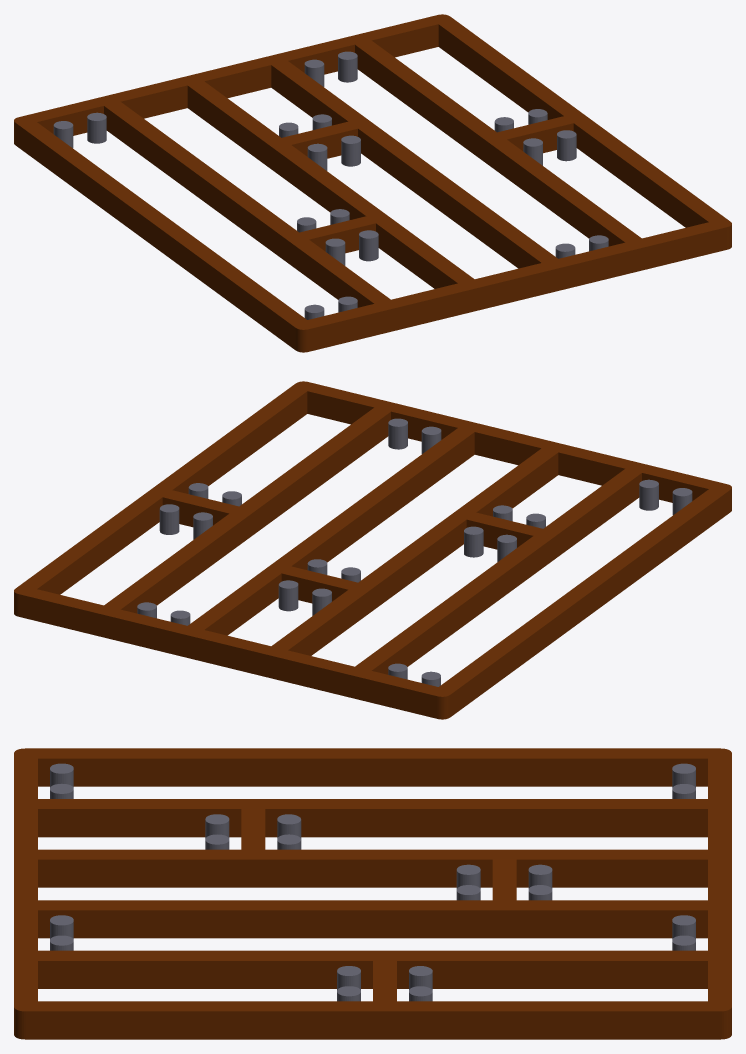
Rendered from room.glb.
3 renders of one model, top to bottom at view 1: azimuth 30°, elevation 25°; view 2: azimuth 150°, elevation 25°; view 3: azimuth 270°, elevation 25°, orthographic. The views are drawn at different scales.
Parts seen in each view (by area): view 1: Path - baked 8, Path - baked, Path - baked 9, Path - baked 4, Path - baked 17, Path - baked 13; view 2: Path - baked 8, Path - baked 12, Path - baked 7, Path - baked 19, Path - baked 15, Path - baked 3; view 3: Path - baked 8, Path - baked 1, Path - baked 10, Path - baked 2, Path - baked 11, Path - baked 5, Path - baked 14, Path - baked 20, Path - baked 18, Path - baked 6, Path - baked 16.
Boxes of the visible parts, box(x1,y1,x2,y2) form: Path - baked 8: box(14, 14, 731, 352); Path - baked: box(359, 230, 378, 261); Path - baked 9: box(341, 135, 360, 166); Path - baked 4: box(557, 130, 576, 161); Path - baked 17: box(338, 51, 357, 82); Path - baked 13: box(87, 112, 106, 143); Path - baked 8: box(14, 381, 731, 719); Path - baked 12: box(278, 580, 298, 611); Path - baked 7: box(159, 504, 179, 534); Path - baked 19: box(388, 418, 407, 449); Path - baked 15: box(639, 479, 658, 510); Path - baked 3: box(464, 526, 483, 557); Path - baked 8: box(14, 748, 731, 1039); Path - baked 1: box(205, 814, 229, 838); Path - baked 10: box(456, 864, 480, 889); Path - baked 2: box(277, 814, 301, 838); Path - baked 11: box(528, 864, 552, 888); Path - baked 5: box(337, 966, 360, 990); Path - baked 14: box(672, 763, 695, 787); Path - baked 20: box(50, 915, 73, 938); Path - baked 18: box(672, 915, 695, 938); Path - baked 6: box(409, 966, 432, 989); Path - baked 16: box(50, 763, 73, 787).
Size of the model in its own units: 0.2355 by 0.0118 by 0.2717.
